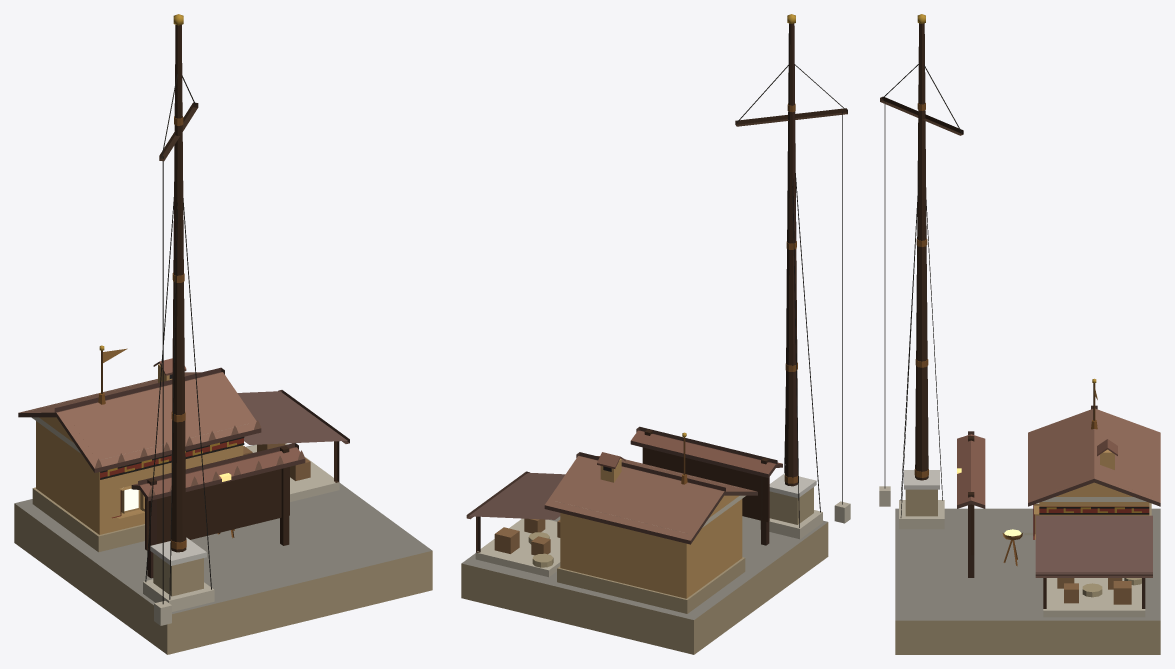
File: stormstation.glb
3 renders of one model, left to right at view 1: azimuth 30°, elevation 25°; view 2: azimuth 150°, elevation 25°; view 3: azimuth 270°, elevation 25°, orthographic. The views are drawn at different scales.
Parts seen in each view (by area): view 1: stormstation_body; view 2: stormstation_body; view 3: stormstation_body.
Part boxes in pixels (x1,y1,x2,y2): stormstation_body: (14,14,432,654); stormstation_body: (461,14,850,654); stormstation_body: (879,14,1160,654).
Size of the model in its own units: 14.84 by 31.45 by 14.84.
